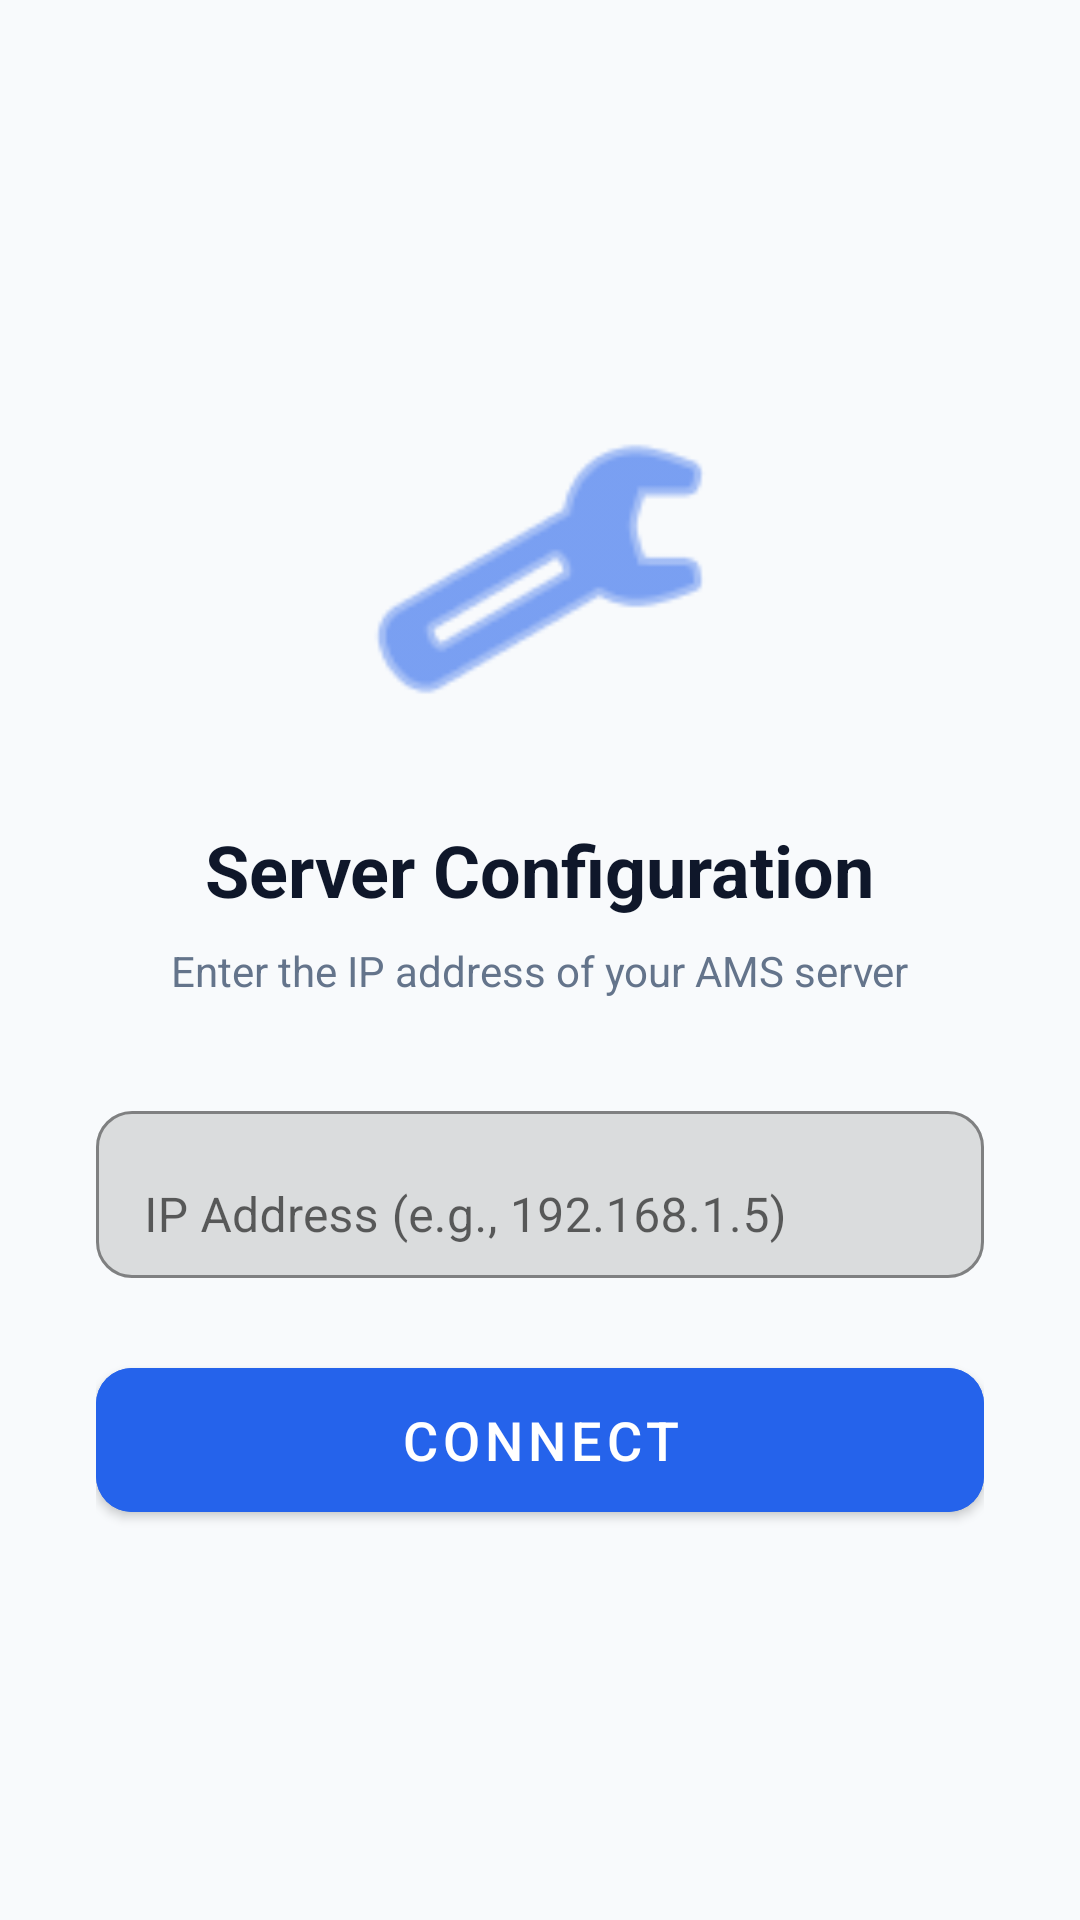

Point at icon controls on the screen. Image size 1080x1920, points as (x,y).
manage: (539,569)
